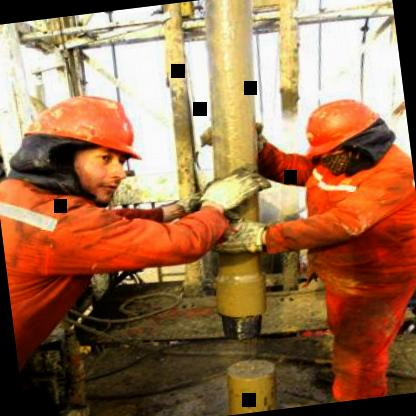helmet: (0, 70, 163, 219), (288, 80, 404, 185)
